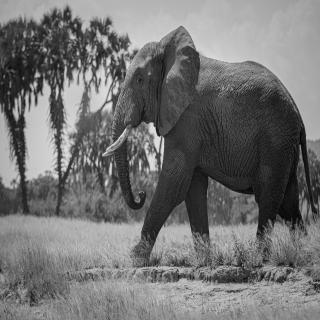Elephant: (103, 25, 319, 260)
